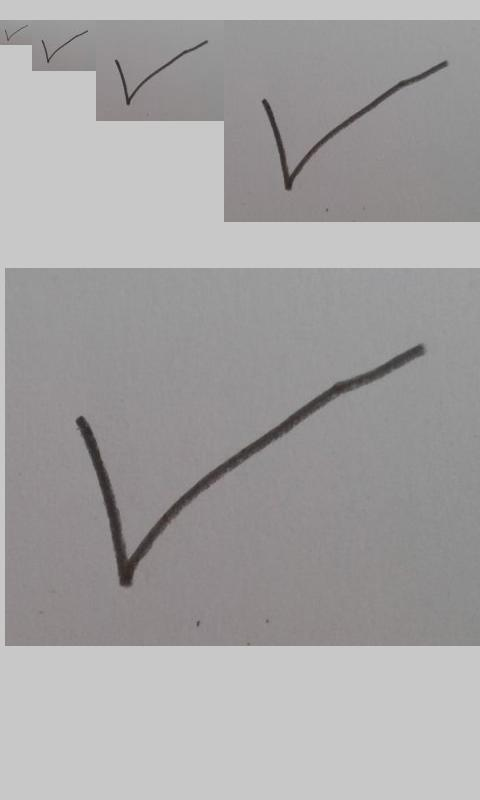check_box: (76, 345, 422, 585), (261, 61, 447, 190), (115, 40, 208, 105), (41, 30, 88, 62), (5, 25, 29, 41)
